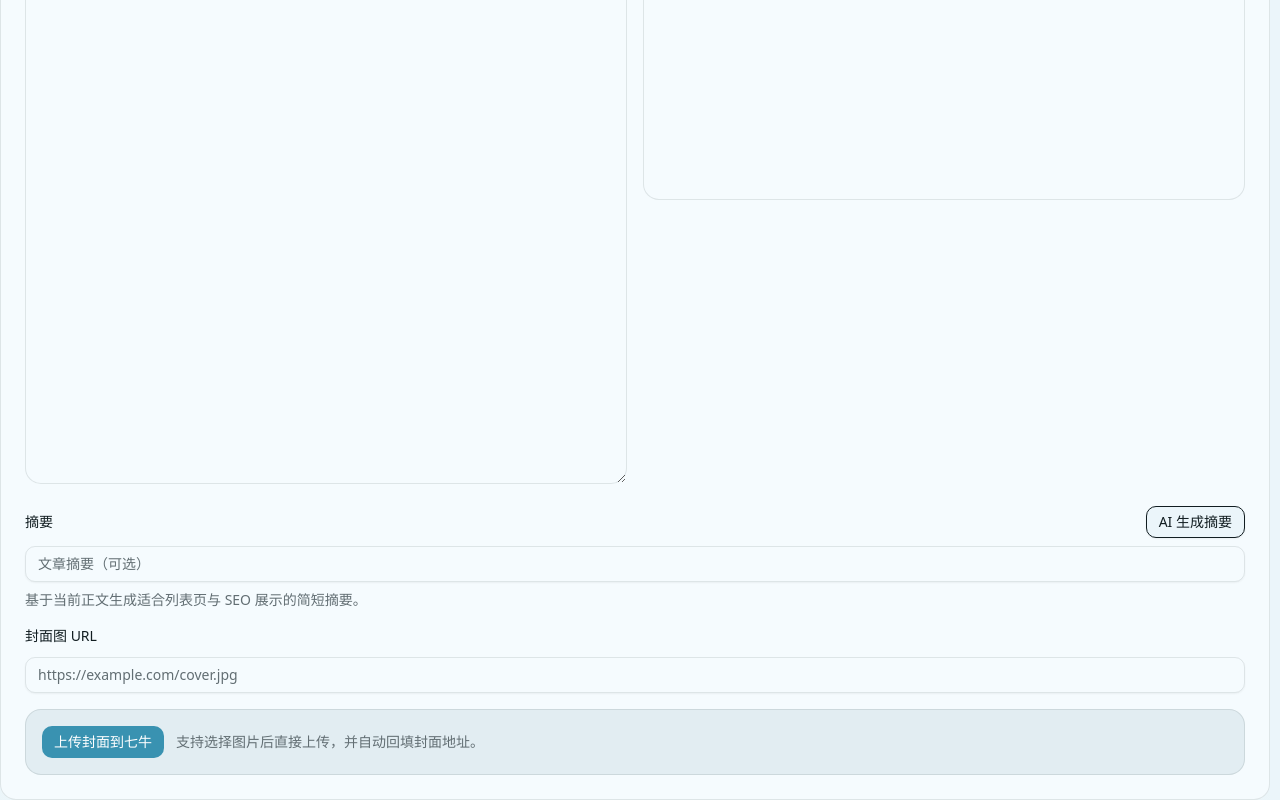
Test: editor workspace summary › requests AI summary and fills excerpt
(page scrolled)
Click the button "AI 生成摘要".
click(1195, 522)  # box [1146,506,1245,538]
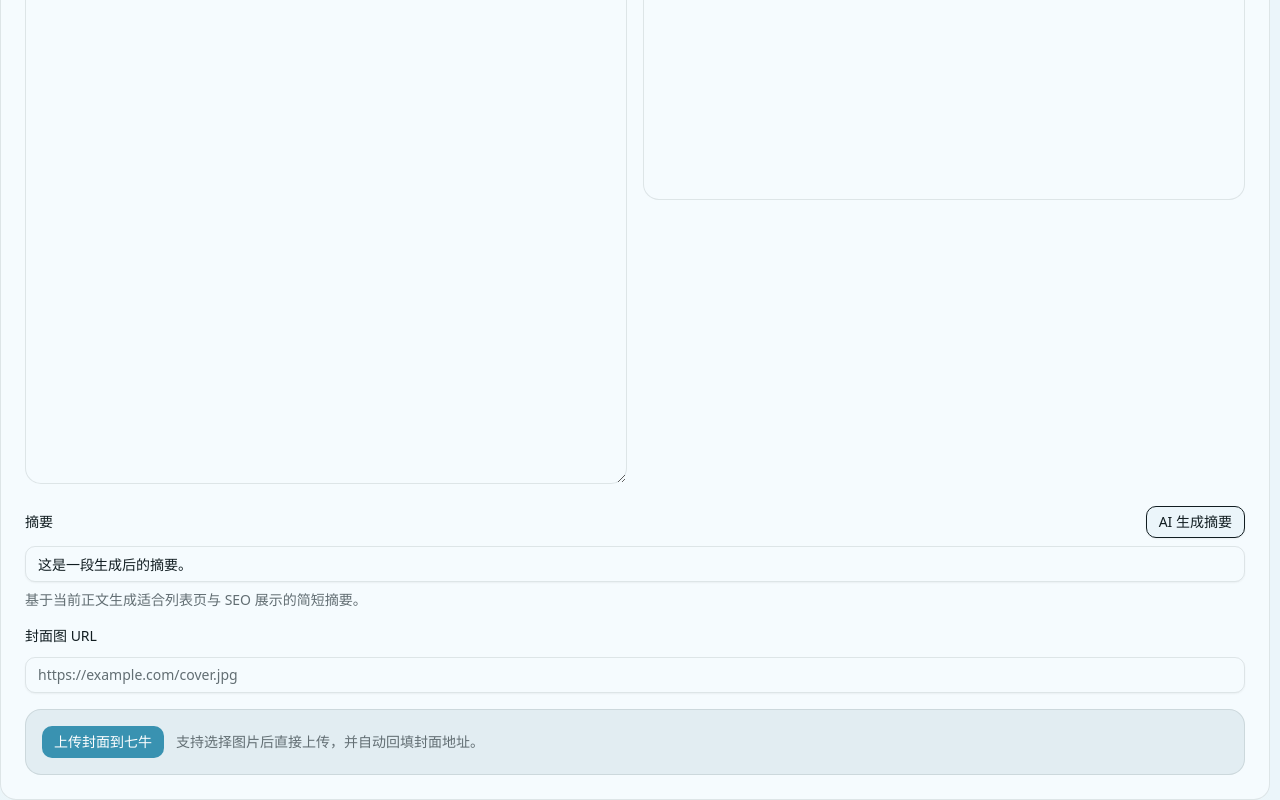
expect the field showing "这是一段生成后的摘要。" is shown: met, box [25,546,1245,582]
